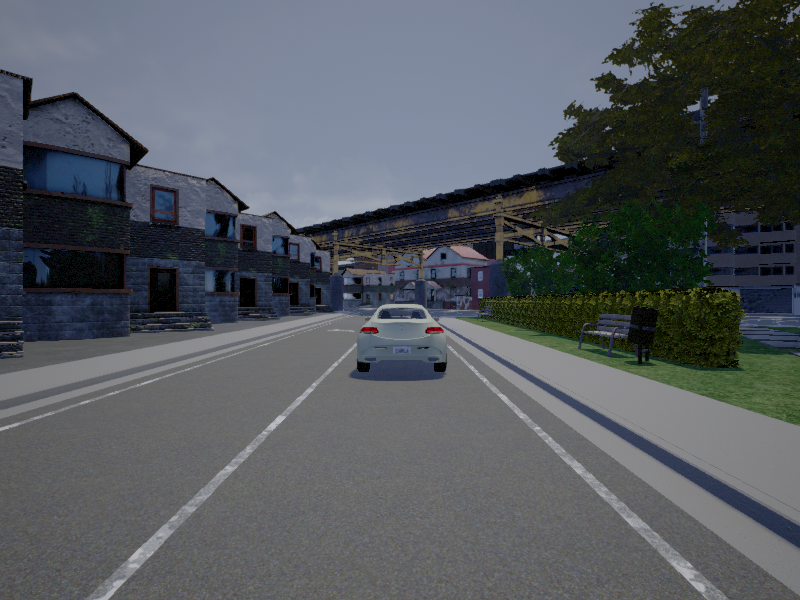Benign: (360, 303, 448, 376)
